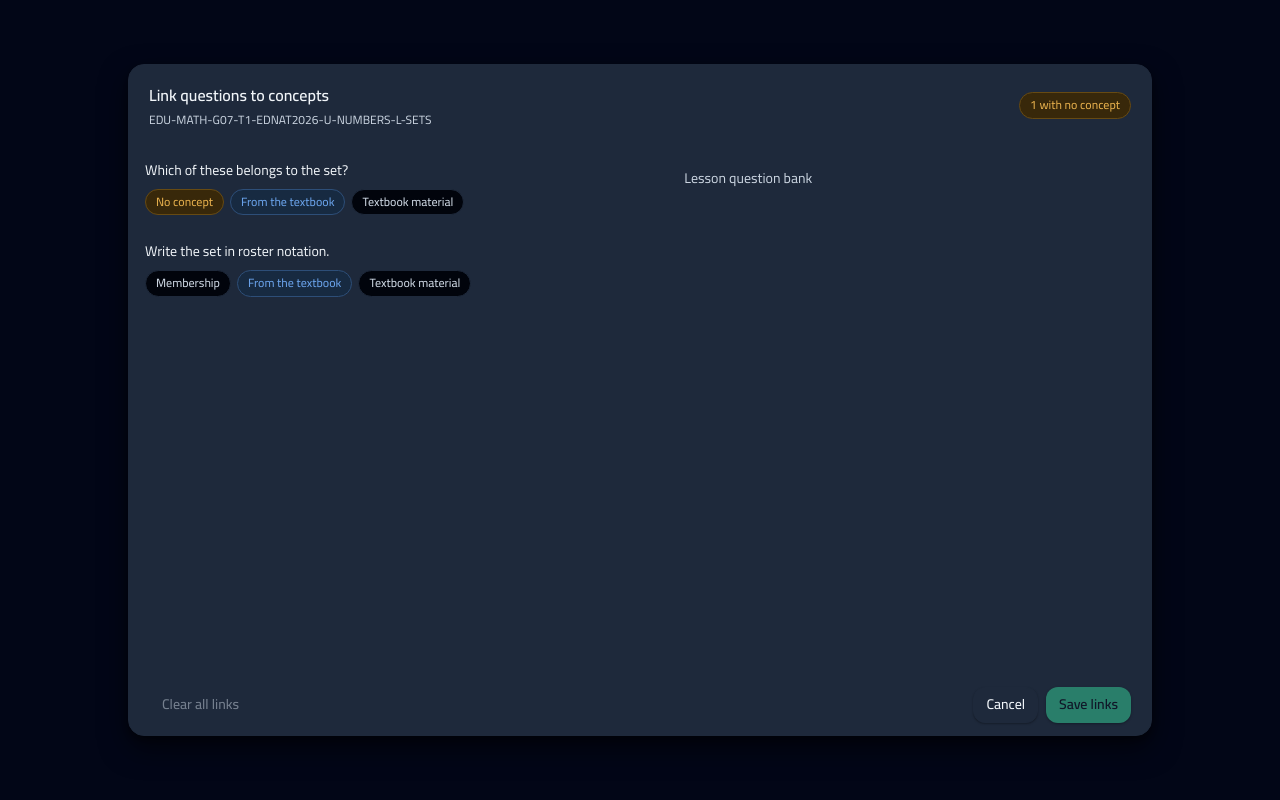
saving links › refuses to save links that name no single primary
The image size is (1280, 800).
Click the text "Which of these belongs to the set?": point(247, 171) [145,159,348,183]
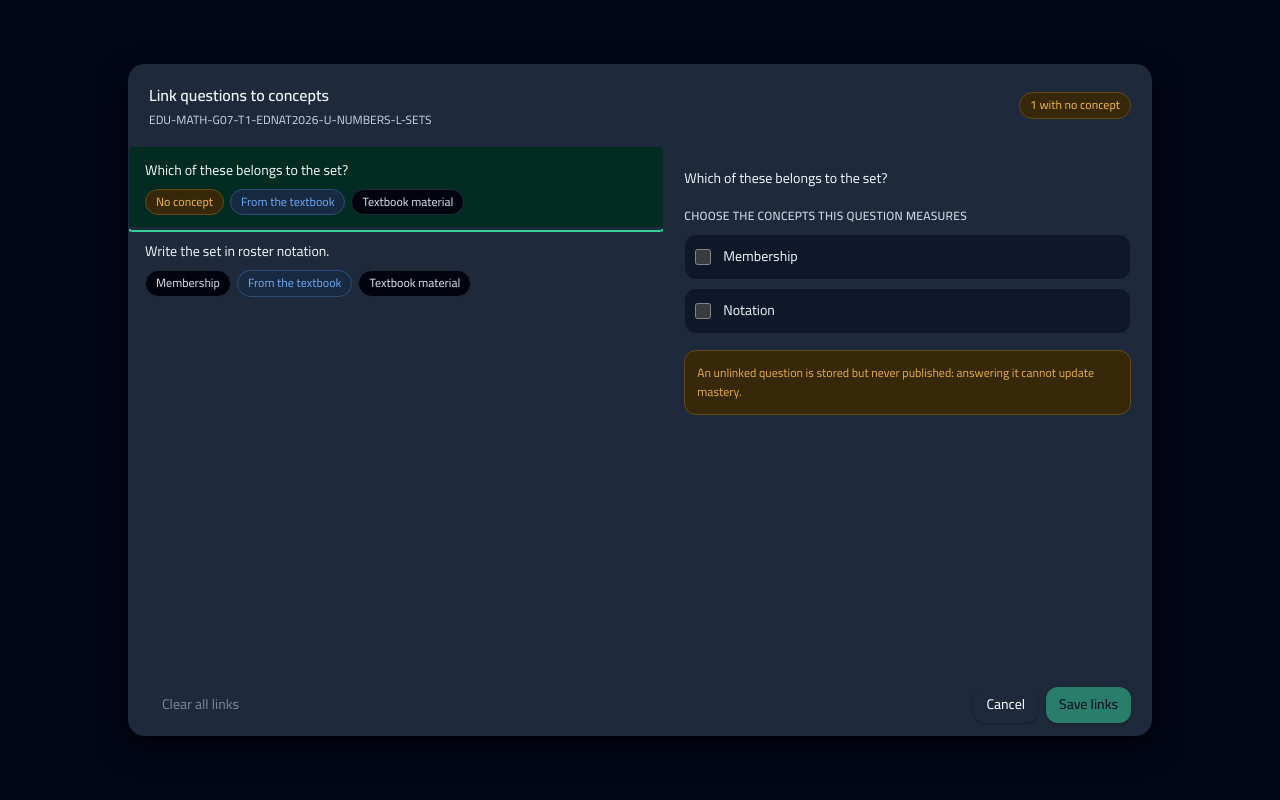
Expected: the button "Save links" is disabled, [1046,687,1131,723]
Click the checkbox named "Membership": point(703, 257) [695,249,711,265]
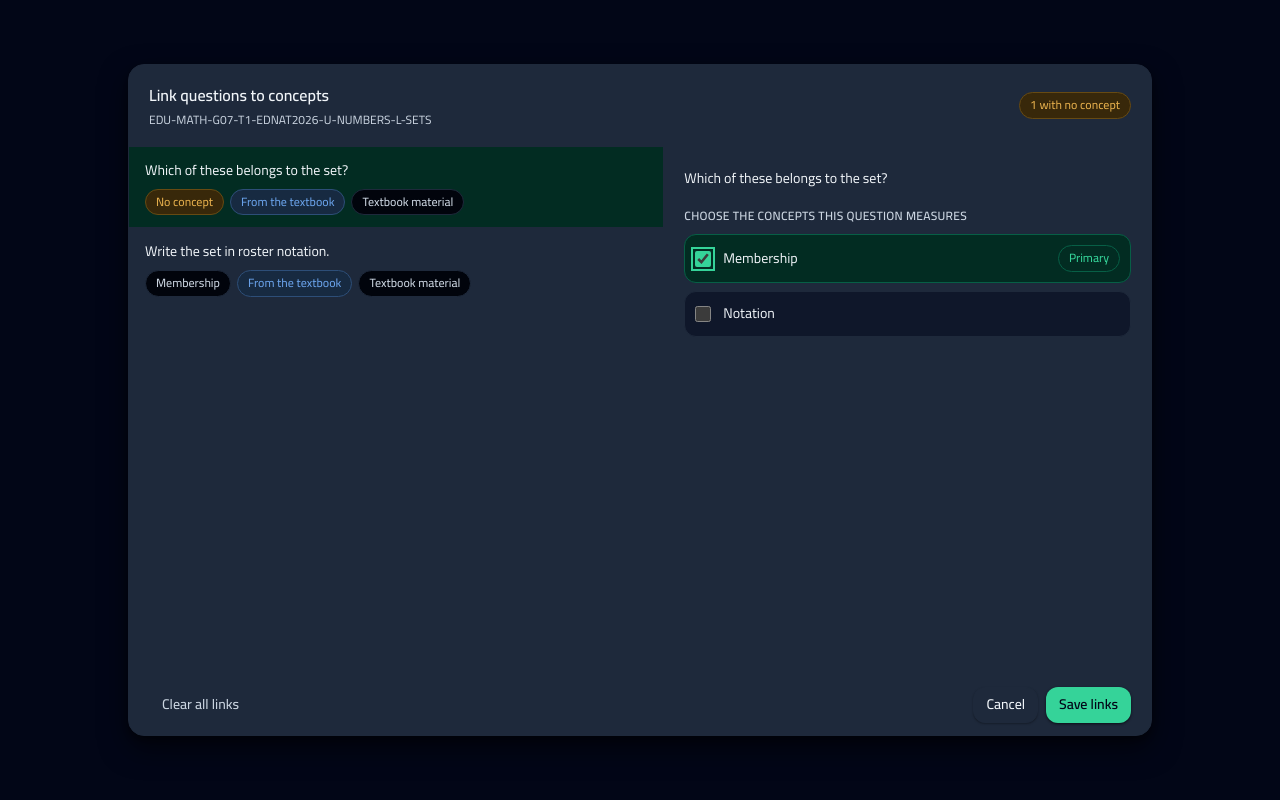
Expected: the button "Save links" is enabled, [1046,687,1131,723]
